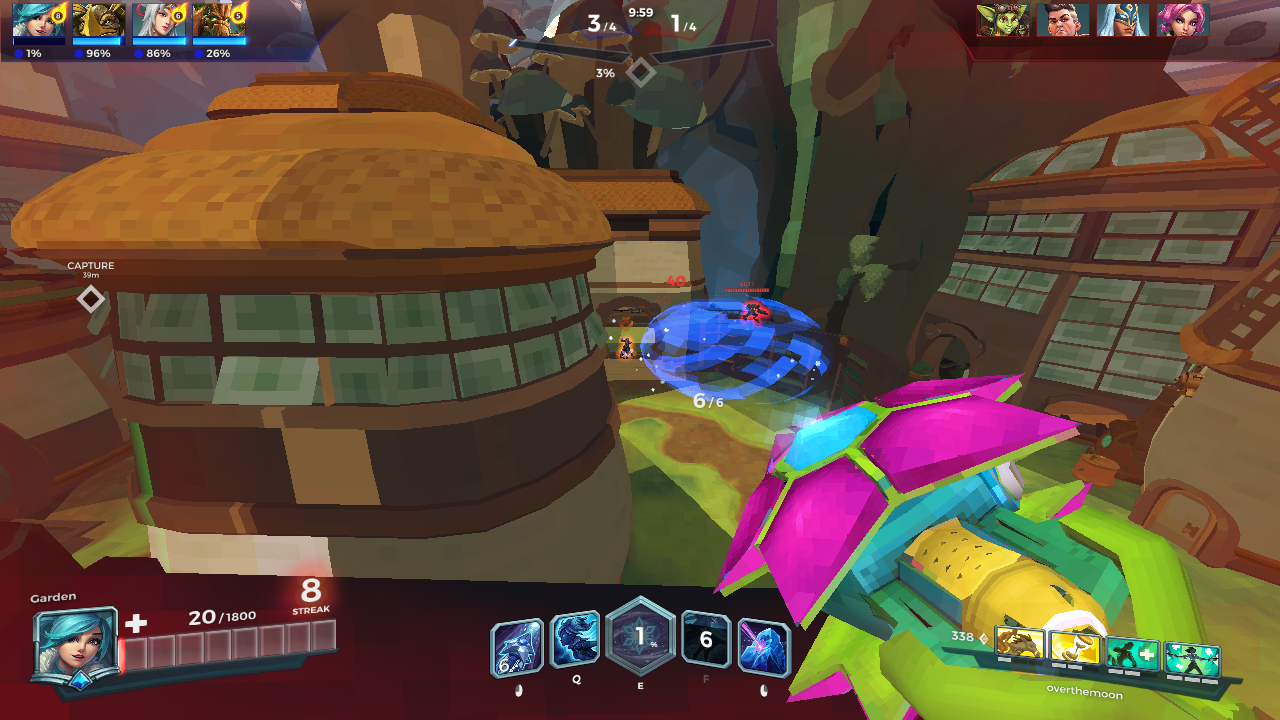model: (744, 300, 770, 328), (618, 334, 635, 362)
